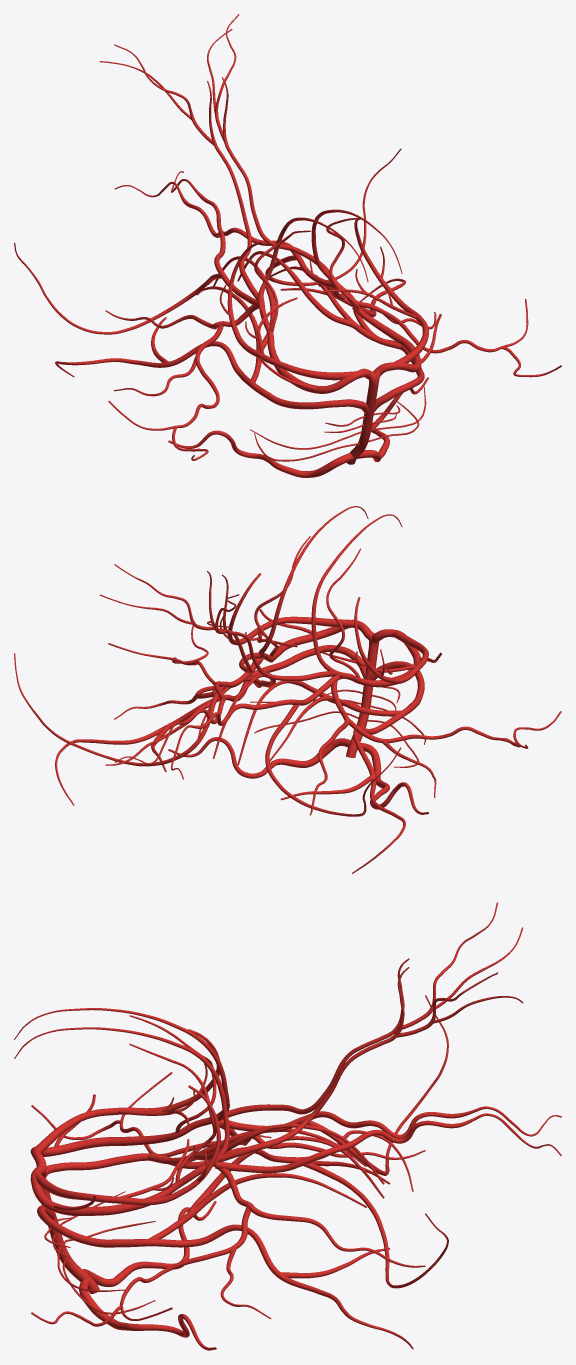
File: circulatorio-basilar-artery.glb
The picture shows the model from 3 angles, top to bottom: view 1: azimuth 30°, elevation 25°; view 2: azimuth 150°, elevation 25°; view 3: azimuth 270°, elevation 25°; orthographic projection. The views are drawn at different scales.
Parts seen in each view (by area): view 1: Posterior cerebral artery.r, Posterior cerebral artery.l, Superior cerebellar artery.r, Superior cerebellar artery.l, Parieto-occipital artery.r, Parieto-occipital artery.l, Anterior inferior cerebellar artery.r, Medial occipital artery.r, Medial occipital artery.l, Lateral occipital artery.r, Basilar artery, Lateral occipital artery.l (+1 smaller); view 2: Posterior cerebral artery.r, Posterior cerebral artery.l, Superior cerebellar artery.r, Superior cerebellar artery.l, Anterior inferior cerebellar artery.l, Medial occipital artery.r, Parieto-occipital artery.r, Parieto-occipital artery.l, Lateral occipital artery.l, Lateral occipital artery.r, Medial occipital artery.l, Anterior inferior cerebellar artery.r (+1 smaller); view 3: Posterior cerebral artery.l, Posterior cerebral artery.r, Superior cerebellar artery.l, Superior cerebellar artery.r, Parieto-occipital artery.l, Parieto-occipital artery.r, Medial occipital artery.l, Medial occipital artery.r, Anterior inferior cerebellar artery.l, Lateral occipital artery.l, Anterior inferior cerebellar artery.r, Lateral occipital artery.r (+1 smaller).
Boxes of the visible parts, box(x1,y1,x2,y2) form: Posterior cerebral artery.r: box(105, 217, 377, 460); Posterior cerebral artery.l: box(309, 209, 561, 389); Superior cerebellar artery.r: box(55, 256, 368, 414); Superior cerebellar artery.l: box(237, 251, 424, 412); Parieto-occipital artery.r: box(99, 44, 258, 301); Parieto-occipital artery.l: box(207, 14, 336, 280); Anterior inferior cerebellar artery.r: box(168, 430, 354, 477); Medial occipital artery.r: box(114, 181, 258, 307); Medial occipital artery.l: box(171, 171, 332, 287); Lateral occipital artery.r: box(14, 242, 221, 334); Basilar artery: box(346, 386, 377, 464); Lateral occipital artery.l: box(265, 148, 401, 285); Posterior cerebral artery.r: box(309, 514, 561, 815); Posterior cerebral artery.l: box(105, 506, 377, 765); Superior cerebellar artery.r: box(237, 661, 424, 873); Superior cerebellar artery.l: box(55, 645, 366, 805); Anterior inferior cerebellar artery.l: box(168, 737, 350, 778); Medial occipital artery.r: box(171, 674, 339, 779); Parieto-occipital artery.r: box(207, 574, 338, 680); Parieto-occipital artery.l: box(99, 564, 262, 673); Lateral occipital artery.l: box(14, 653, 224, 766); Lateral occipital artery.r: box(265, 704, 401, 816); Medial occipital artery.l: box(115, 658, 260, 764); Anterior inferior cerebellar artery.r: box(356, 742, 428, 814); Posterior cerebral artery.l: box(14, 1027, 425, 1326); Posterior cerebral artery.r: box(14, 1008, 425, 1178); Superior cerebellar artery.l: box(37, 1136, 413, 1349); Superior cerebellar artery.r: box(45, 1123, 413, 1191); Parieto-occipital artery.l: box(215, 967, 523, 1162); Parieto-occipital artery.r: box(218, 902, 523, 1121); Medial occipital artery.l: box(215, 1113, 561, 1173); Medial occipital artery.r: box(220, 1106, 561, 1138); Anterior inferior cerebellar artery.l: box(79, 1279, 216, 1350); Lateral occipital artery.l: box(303, 1162, 448, 1288); Anterior inferior cerebellar artery.r: box(82, 1201, 216, 1286); Lateral occipital artery.r: box(307, 995, 448, 1175).
Bounding box in the file's own units: 0.1111 × 0.0809 × 0.1088.
